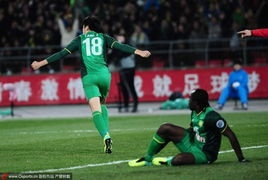falling: (127, 84, 251, 168)
